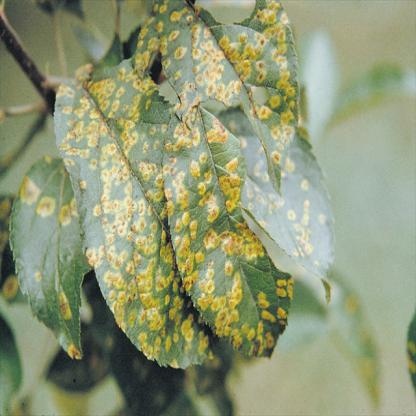Apple rust leaf: (51, 54, 212, 372), (162, 95, 302, 369), (8, 148, 91, 371)
